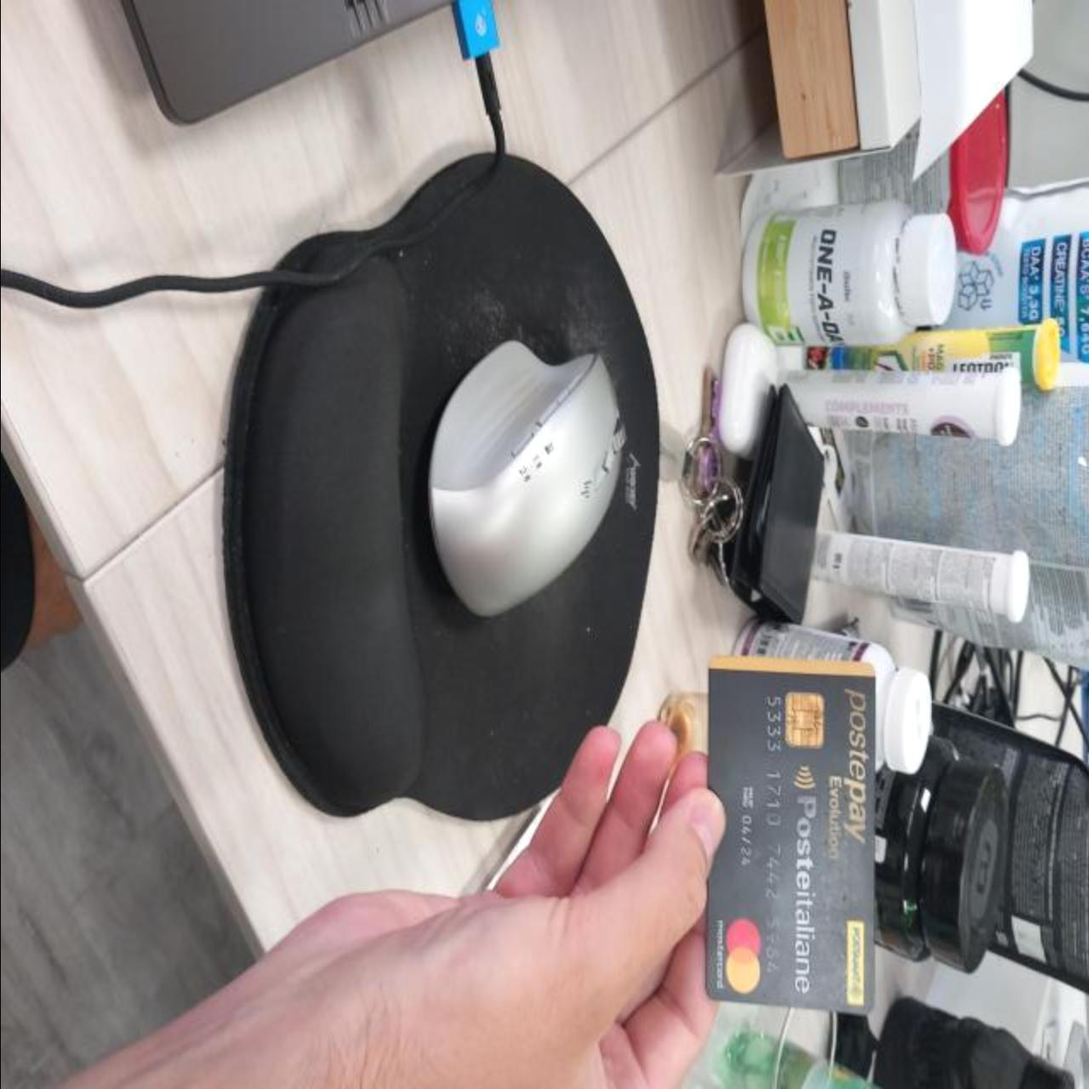credit_card: (701, 657, 871, 1018)
